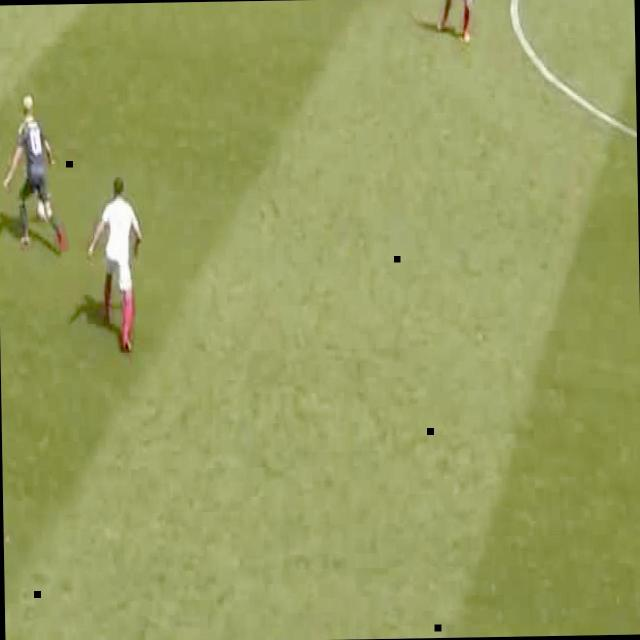ball: (36, 194, 51, 220)
player-white: (2, 91, 67, 252), (86, 177, 144, 349), (436, 0, 486, 42)
